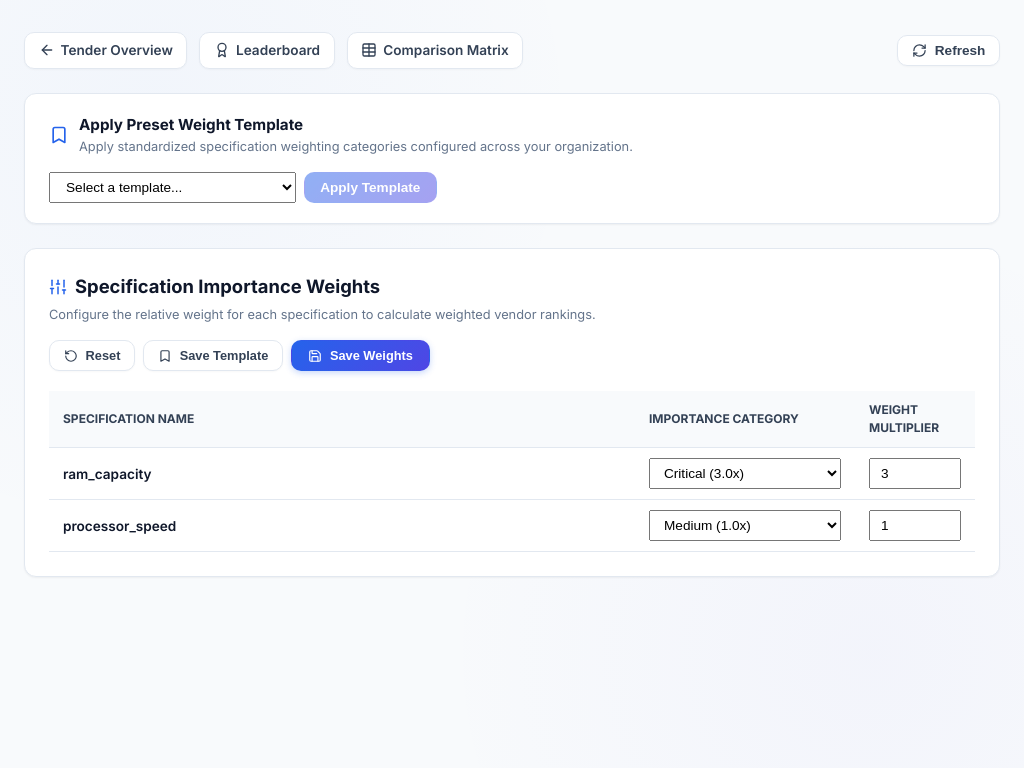
Scenario: WeightConfigPage › updates weights when Save Weights is clicked
Click the button "Save Weights" at (360, 356), box [291,340,430,371]
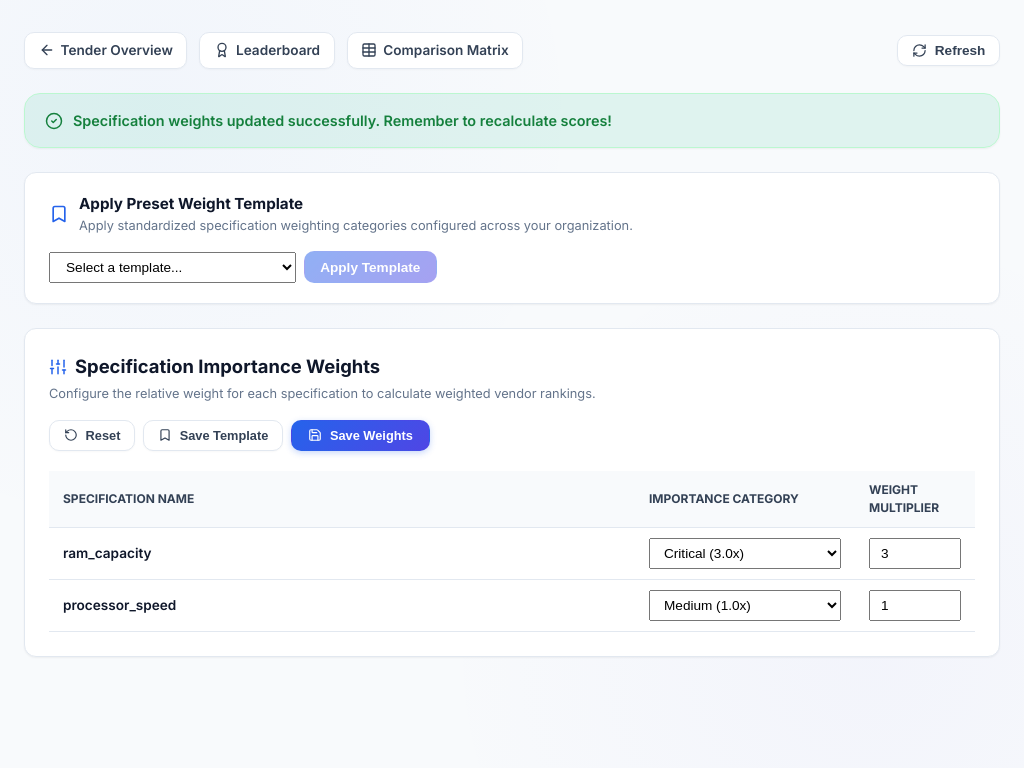
Result: the text "Specification weights updated successfully" is shown at [73,112,612,129]
